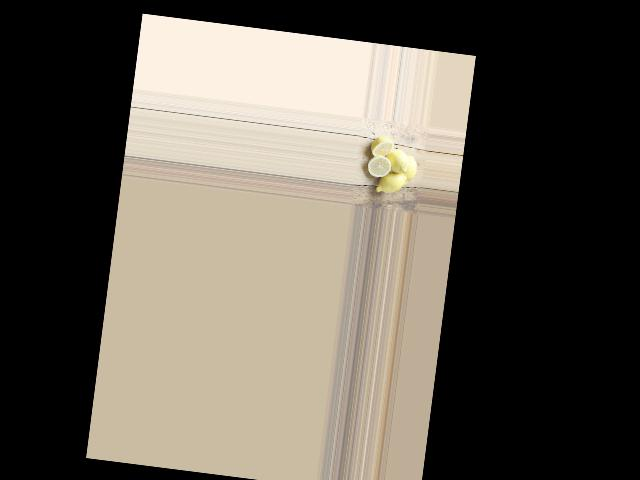lemon: (373, 169, 408, 198)
